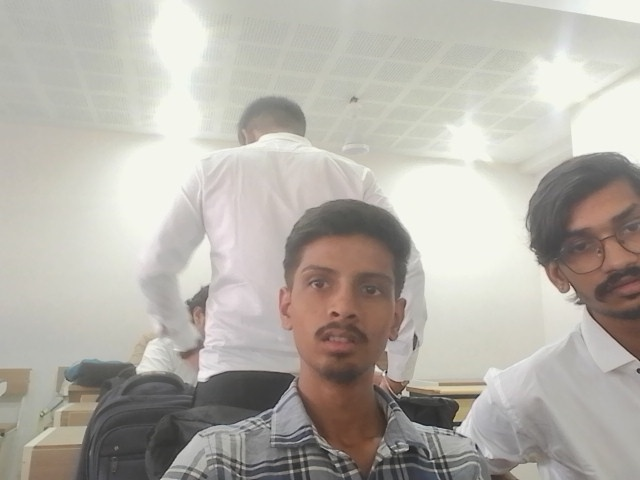fan_on: (339, 94, 369, 155)
light_on: (152, 10, 223, 168), (438, 95, 496, 189), (536, 67, 601, 110)
person: (155, 200, 497, 479), (186, 121, 456, 459), (457, 151, 639, 479), (135, 307, 198, 383)
